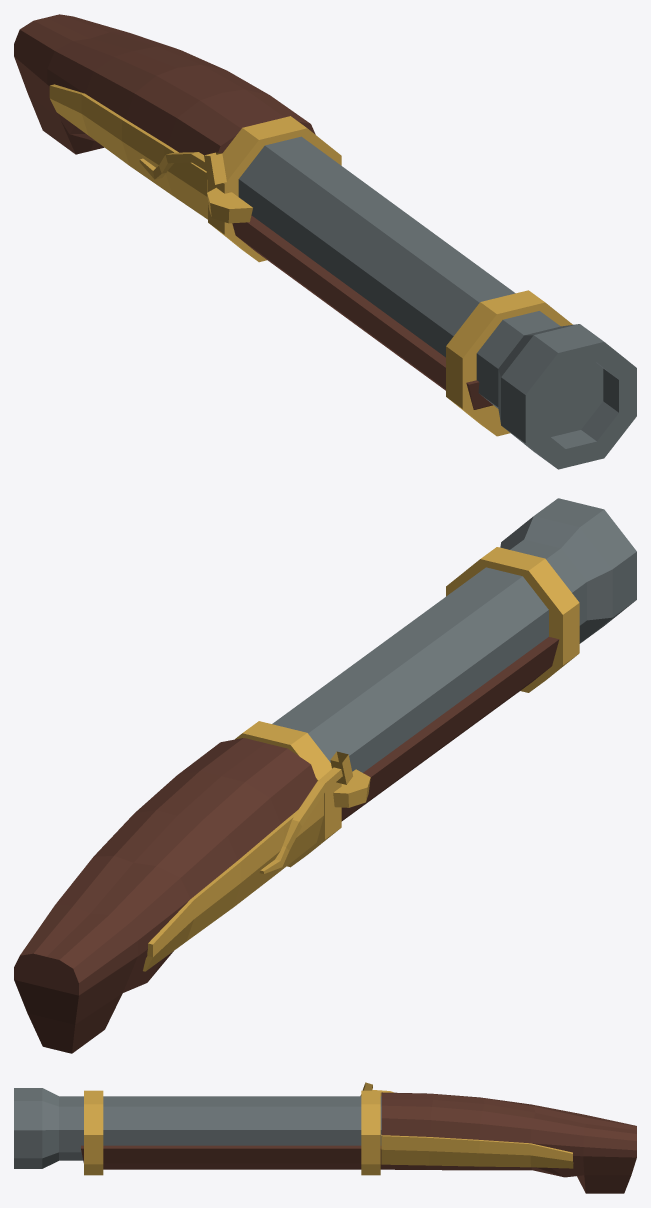
File: daecheolpo.glb
The picture shows the model from 3 angles, top to bottom: view 1: azimuth 30°, elevation 25°; view 2: azimuth 150°, elevation 25°; view 3: azimuth 270°, elevation 25°; orthographic projection. The views are drawn at different scales.
Parts seen in each view (by area): view 1: handcannon, holder, Cube.037, ring.001, ring, Cube.038, poewr_plate; view 2: holder, handcannon, Cube.037, ring.001, ring, Cube.038, poewr_plate; view 3: holder, handcannon, Cube.037, ring, ring.001.
Part boxes in pixels (x1,y1,x2,y2): handcannon: (238, 136, 636, 469); holder: (14, 14, 492, 409); Cube.037: (49, 84, 207, 219); ring.001: (446, 290, 572, 436); ring: (208, 116, 341, 262); Cube.038: (139, 152, 226, 184); poewr_plate: (207, 187, 252, 223); holder: (14, 637, 559, 1053); handcannon: (272, 498, 636, 772); Cube.037: (143, 794, 323, 971); ring.001: (446, 547, 579, 692); ring: (235, 721, 341, 867); Cube.038: (259, 751, 352, 873); poewr_plate: (333, 769, 370, 807); holder: (81, 1092, 636, 1193); handcannon: (14, 1088, 381, 1168); Cube.037: (381, 1134, 573, 1168); ring: (361, 1090, 380, 1175); ring.001: (84, 1090, 103, 1175).
Bounding box in the file's own units: 2.52 × 2.84 × 16.87.
